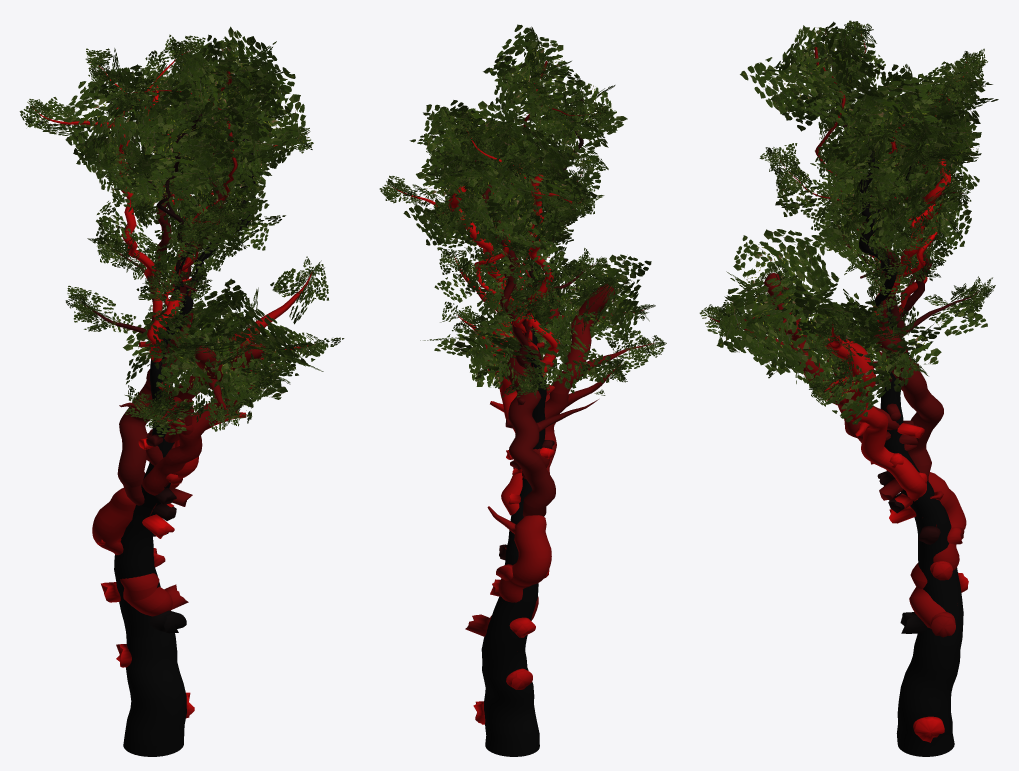
3 views of the same model, side by side, from view 1: azimuth 30°, elevation 25°; view 2: azimuth 150°, elevation 25°; view 3: azimuth 270°, elevation 25° (orthographic). The views are drawn at different scales.
Parts seen in each view (by area): view 1: Tree26; view 2: Tree26; view 3: Tree26.
Part boxes in pixels (x1=…): Tree26: x1=19, y1=26, x2=344, y2=756; Tree26: x1=379, y1=24, x2=666, y2=756; Tree26: x1=699, y1=20, x2=998, y2=756.
Size of the model in its own units: 3 by 8 by 3.
